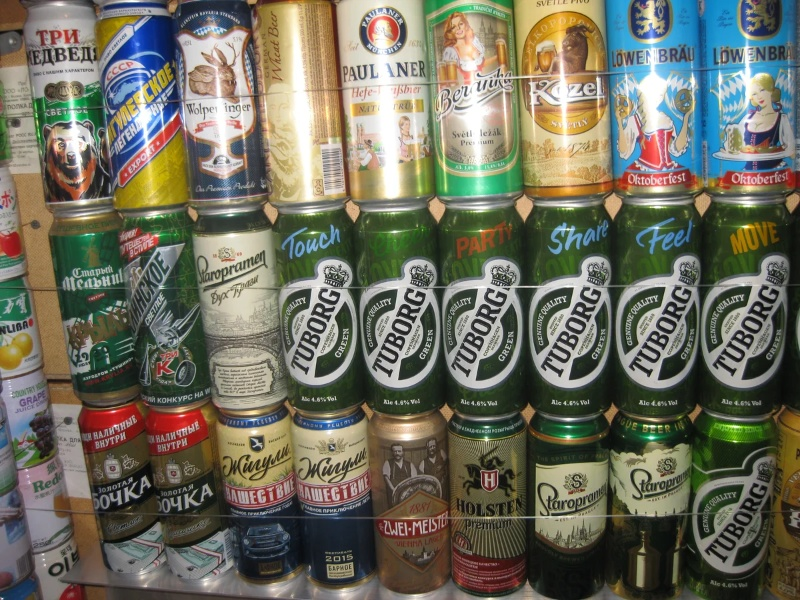beer: (250, 1, 358, 213), (337, 1, 443, 207), (176, 1, 275, 214), (525, 195, 619, 413), (427, 1, 528, 202), (25, 5, 122, 214), (94, 8, 194, 210), (513, 1, 614, 201), (615, 195, 706, 413), (699, 1, 799, 199), (117, 206, 214, 408), (607, 1, 704, 201), (705, 189, 787, 418), (45, 211, 140, 402), (447, 197, 528, 416), (365, 206, 448, 414), (209, 406, 303, 579), (77, 403, 170, 576), (689, 409, 773, 600), (285, 208, 366, 406), (367, 416, 457, 592), (526, 411, 612, 594), (292, 410, 381, 586), (206, 205, 282, 408), (608, 411, 691, 595), (449, 412, 530, 596)
